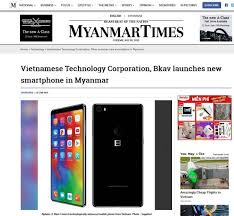bphone: (91, 101, 143, 208), (45, 102, 88, 207)
